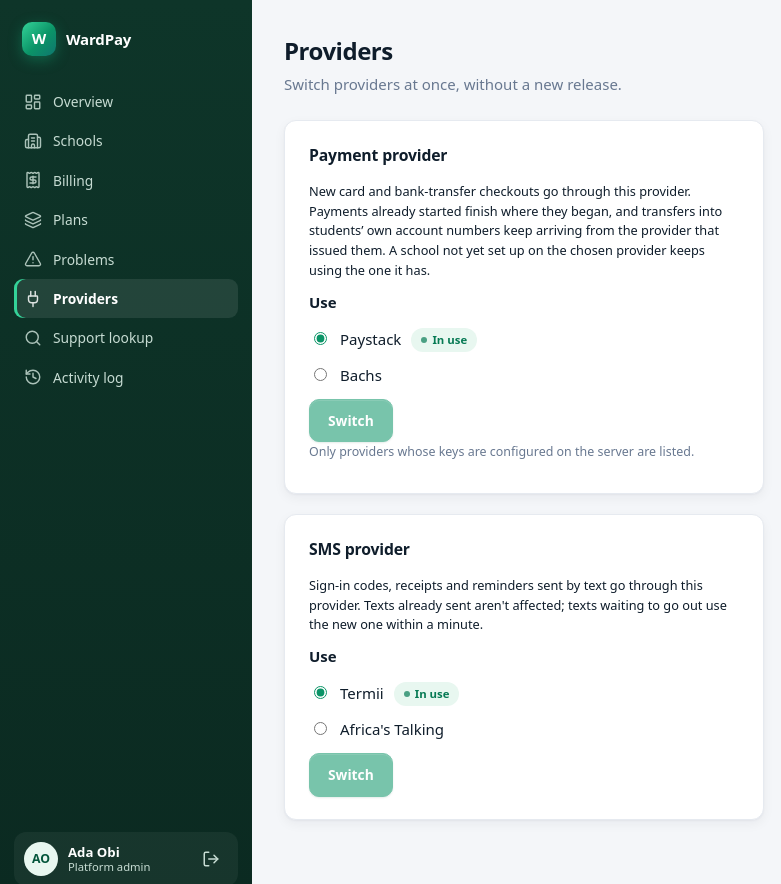
Test: platform console › switches the payment provider
This screenshot has width=781, height=884.
Expected: the radio button labelled "Paystack In use" is checked, 314,332 -> 327,345
Expected: the button "Switch" below "Bachs" is disabled, 309,399 -> 393,442
Click the radio button labelled "Bachs". click: (320, 374)
box: 314,368 -> 327,380
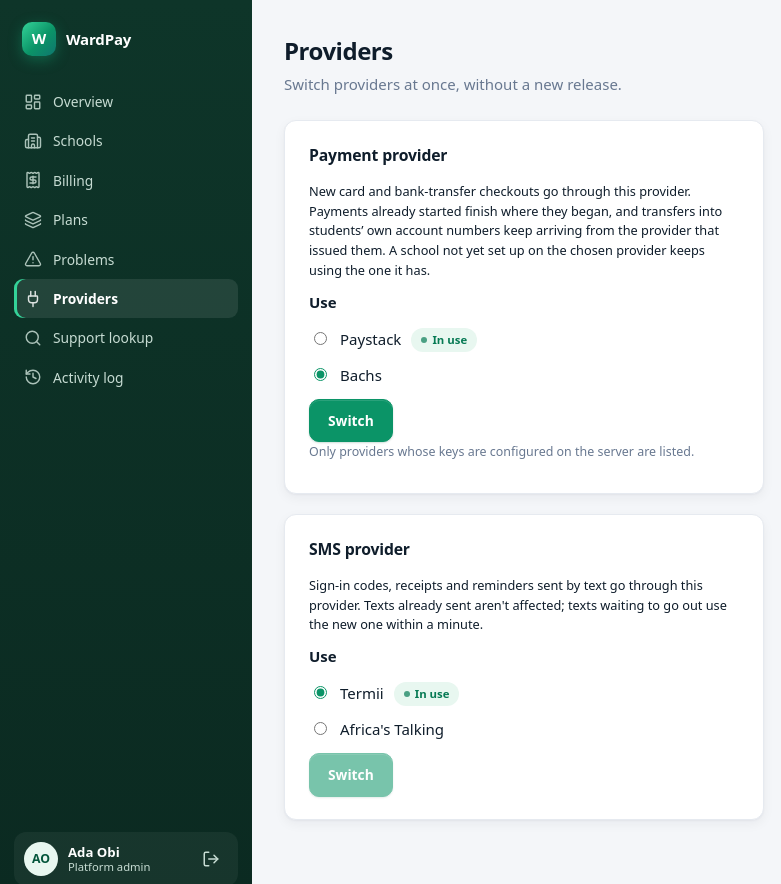
Click the button "Switch" below "Bachs". click: (351, 420)
box: 309,399 -> 393,442
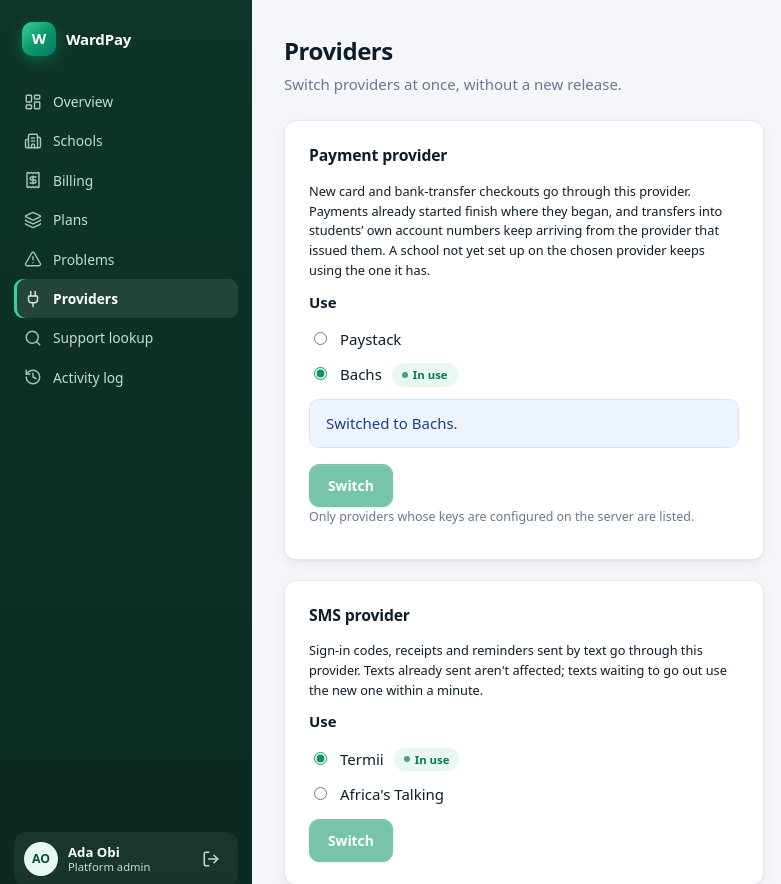
Expected: the radio button labelled "Termii In use" is checked, 314,752 -> 327,765
Expected: the text "Switched to Bachs." is shown, 309,399 -> 739,448
Click the radio button labelled "Africa's Talking". click: (320, 794)
box: 314,787 -> 327,800
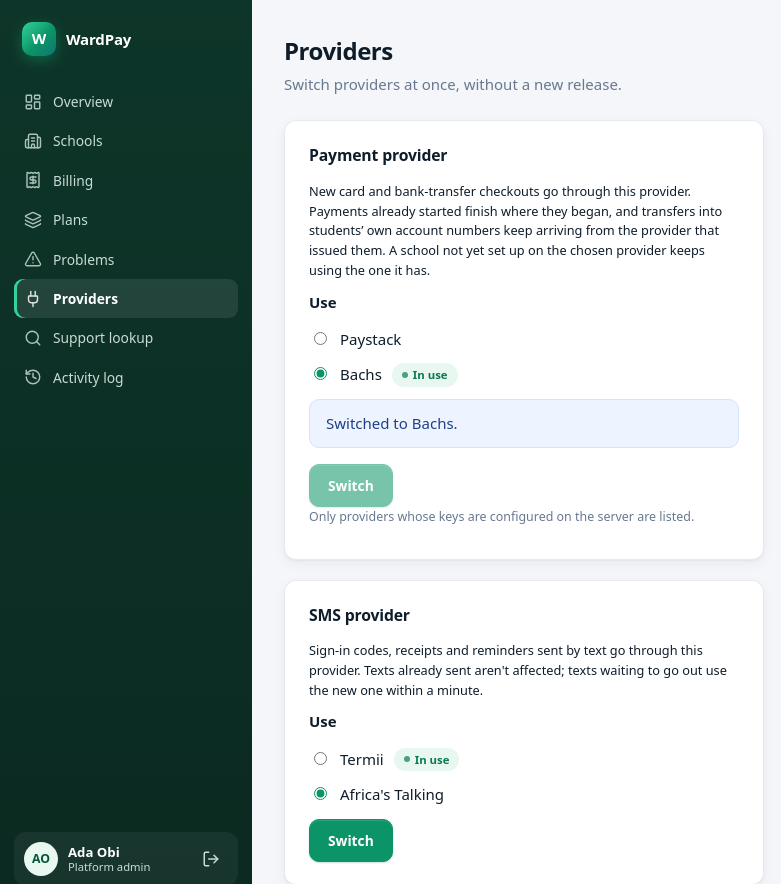
Click the button "Switch" below "Africa's Talking". click: (351, 840)
box: 309,818 -> 393,862
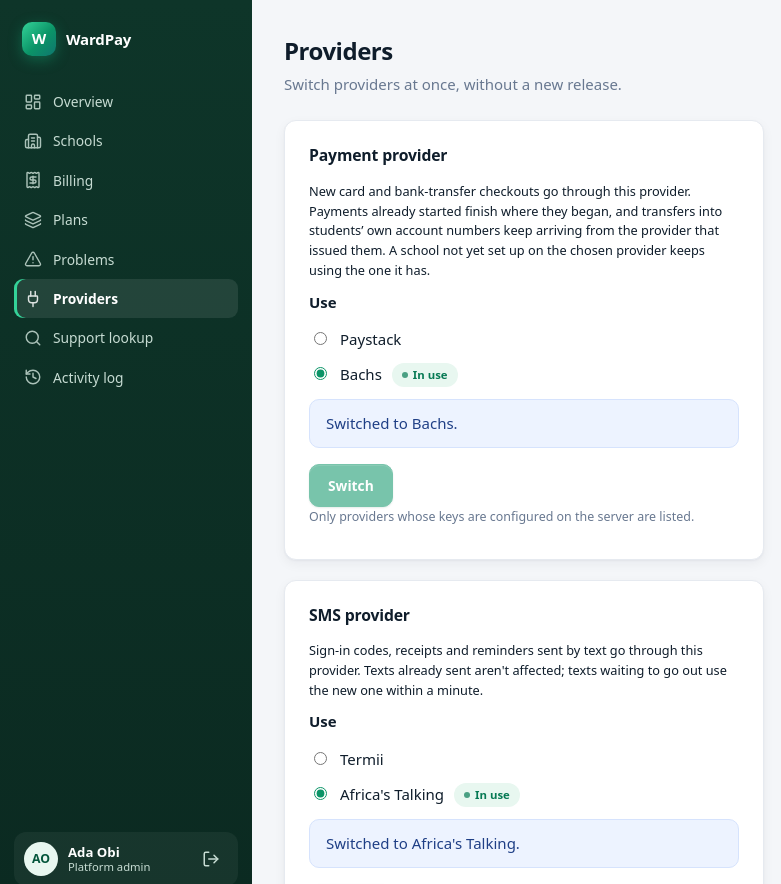
Expected: the text "Switched to Africa's Talking." is shown, 309,818 -> 739,868
